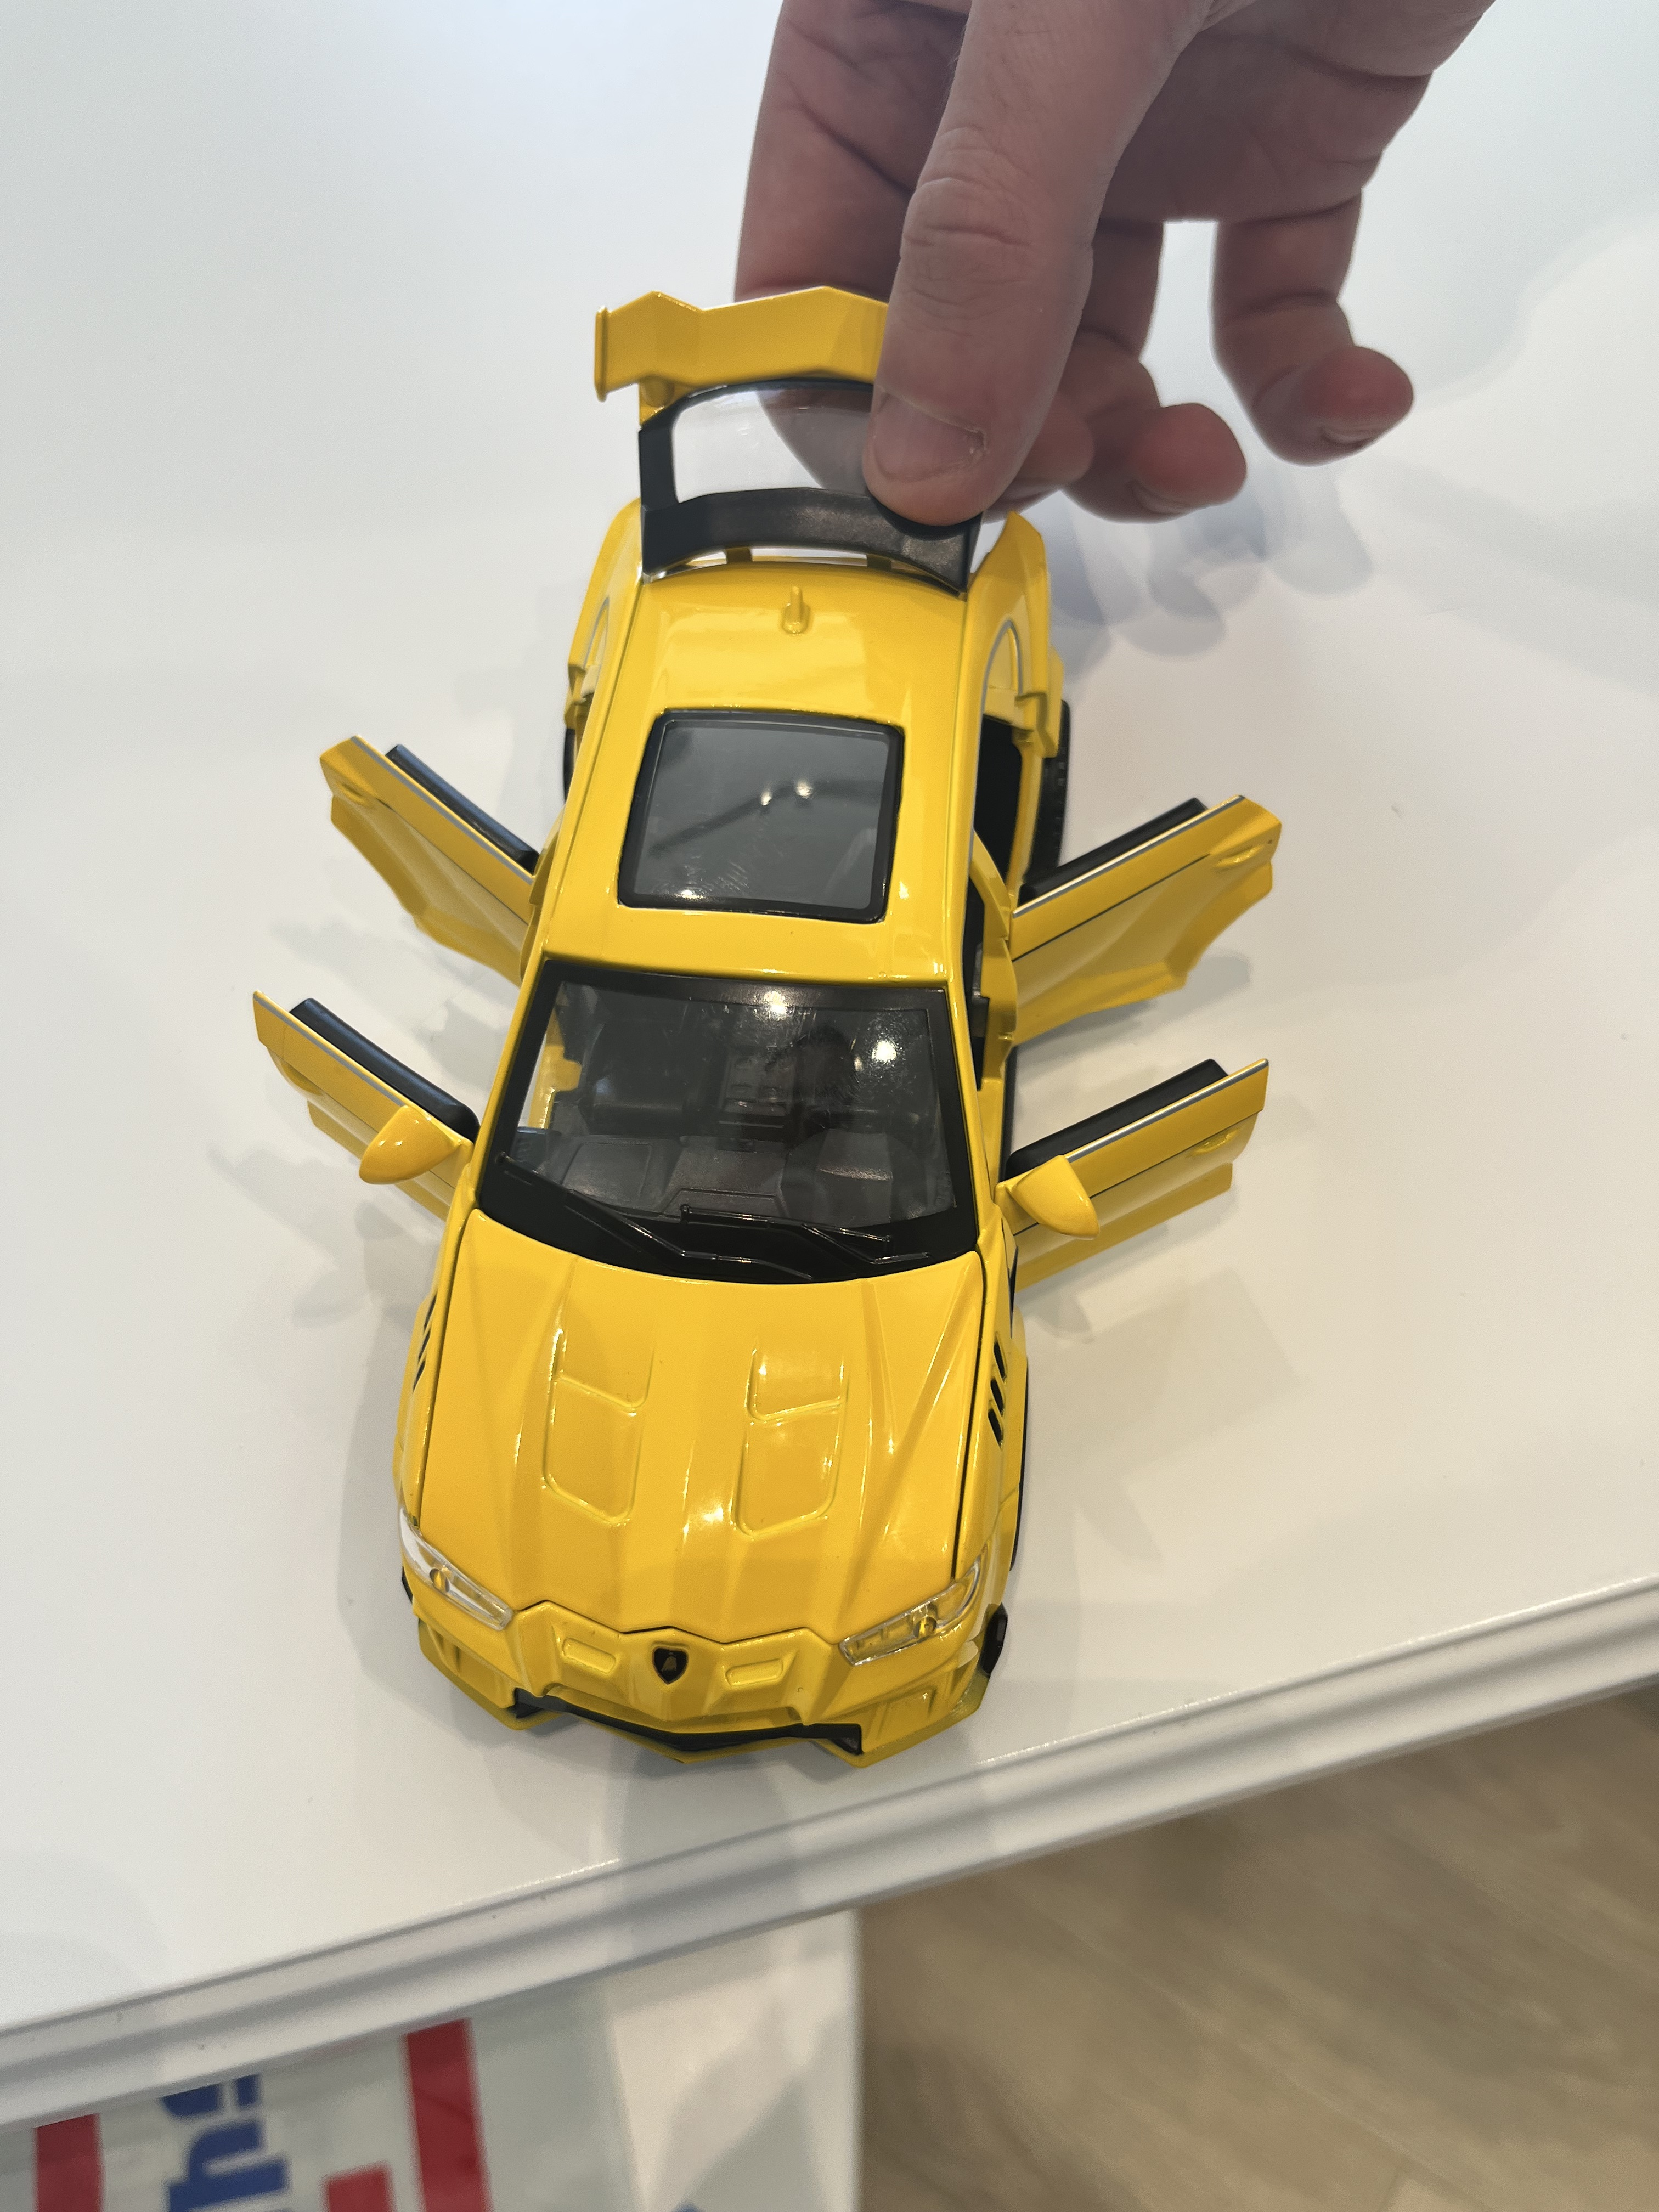lambo: (263, 303, 1298, 1796)
